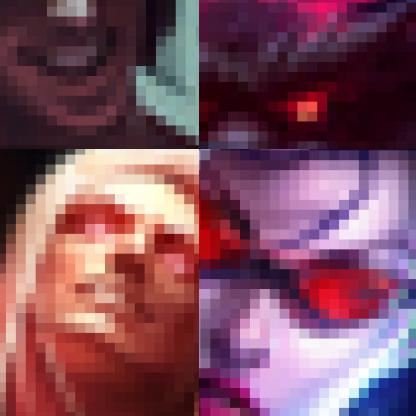Kayn: (0, 0, 198, 148)
Ornn: (199, 0, 415, 148)
Vayne: (199, 149, 415, 415)
Vladimir: (0, 149, 198, 415)
